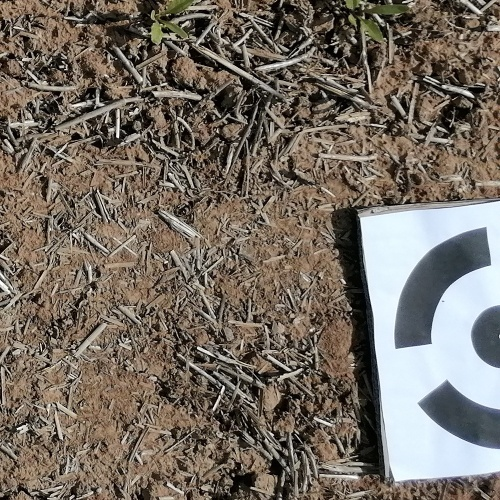beet: (345, 0, 409, 44), (148, 0, 198, 45)
